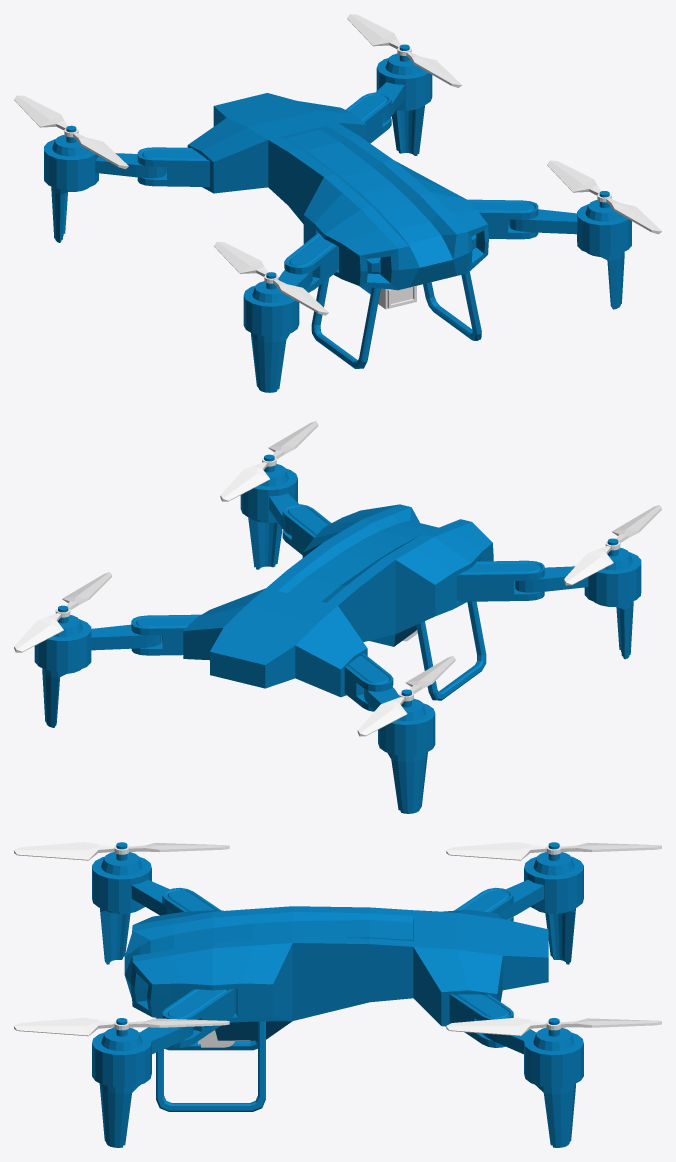
The model's file is Drone2.glb.
The picture shows the model from 3 angles, top to bottom: view 1: azimuth 30°, elevation 25°; view 2: azimuth 150°, elevation 25°; view 3: azimuth 270°, elevation 25°; orthographic projection. The views are drawn at different scales.
Parts seen in each view (by area): view 1: Body, Rotor_FL, Rotor_BL, Rotor_BR, Rotor_FR, Cube.002; view 2: Body, Rotor_FR, Rotor_BL, Rotor_FL, Rotor_BR; view 3: Body, Rotor_FL, Rotor_BL, Rotor_FR, Rotor_BR.
Part boxes in pixels (left/top/right/bottom): Body: left=44, top=44, right=631, bottom=392; Rotor_FL: left=547, top=160, right=661, bottom=234; Rotor_BL: left=347, top=14, right=461, bottom=87; Rotor_BR: left=14, top=95, right=128, bottom=169; Rotor_FR: left=214, top=241, right=328, bottom=315; Cube.002: left=378, top=285, right=416, bottom=309; Body: left=34, top=454, right=641, bottom=813; Rotor_FR: left=564, top=505, right=661, bottom=585; Rotor_BL: left=14, top=572, right=111, bottom=652; Rotor_FL: left=220, top=421, right=318, bottom=501; Rotor_BR: left=357, top=656, right=455, bottom=736; Body: left=92, top=842, right=583, bottom=1147; Rotor_FL: left=14, top=1017, right=229, bottom=1036; Rotor_BL: left=446, top=1017, right=661, bottom=1036; Rotor_FR: left=14, top=842, right=229, bottom=860; Rotor_BR: left=446, top=842, right=661, bottom=860.
Size of the model in its own units: 0.5736 by 0.2076 by 0.7813.
